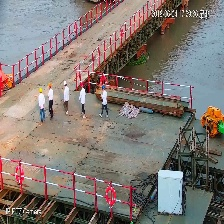helmet: (39, 87, 43, 95), (64, 81, 68, 86), (48, 84, 52, 89), (102, 85, 105, 90)
no-vest: (79, 88, 87, 105), (63, 87, 70, 105), (47, 89, 54, 106), (101, 90, 108, 107), (38, 94, 45, 111)
person: (78, 80, 88, 119), (99, 84, 109, 118), (38, 88, 47, 124), (47, 83, 55, 123), (63, 80, 70, 117)
